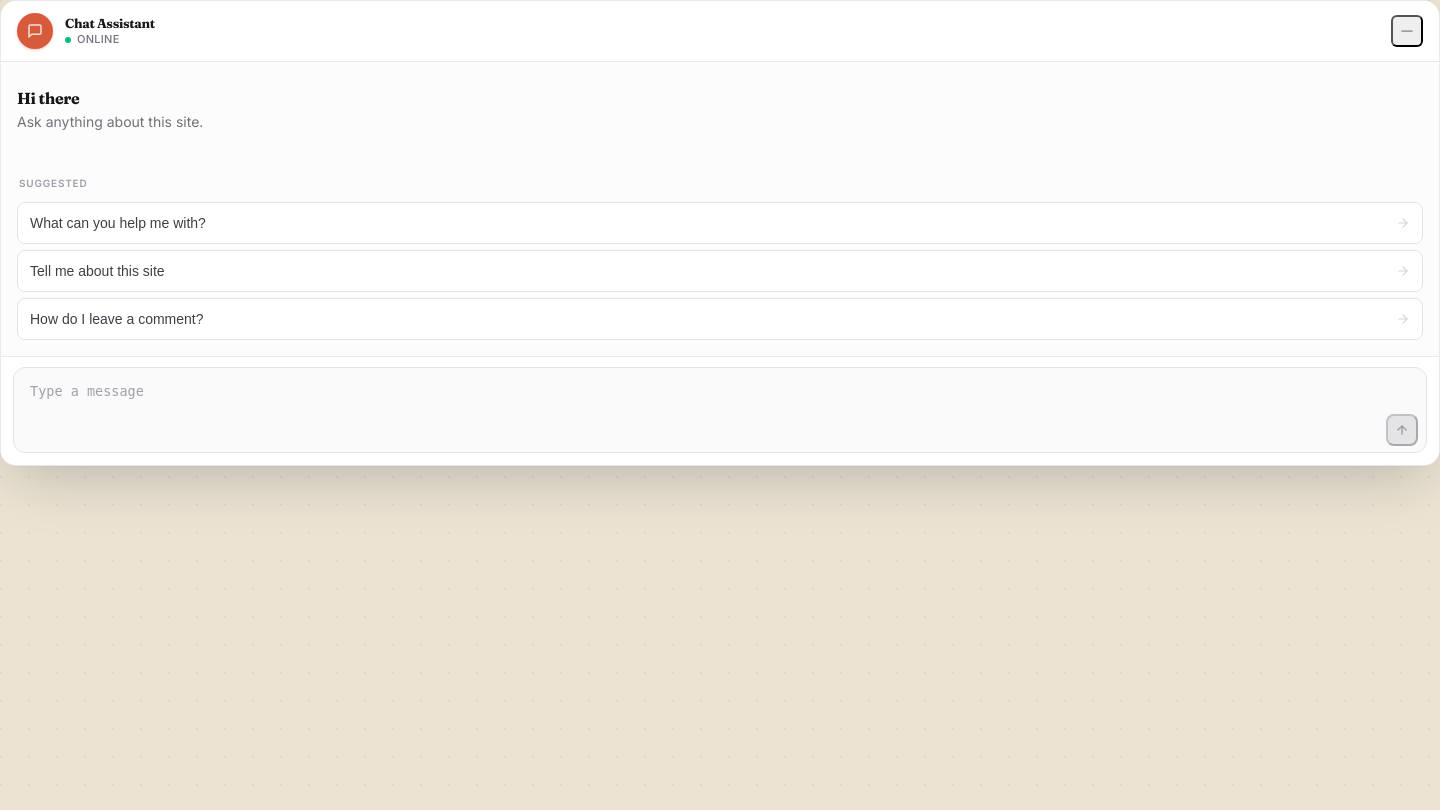
Scenario: ChatPanel › seeds and counts down the rate-limit timer from an error
Type "x" into the text box with placeholder "Type a message" at (700, 410), box [22,374,1378,446]
Wait 1000 ms
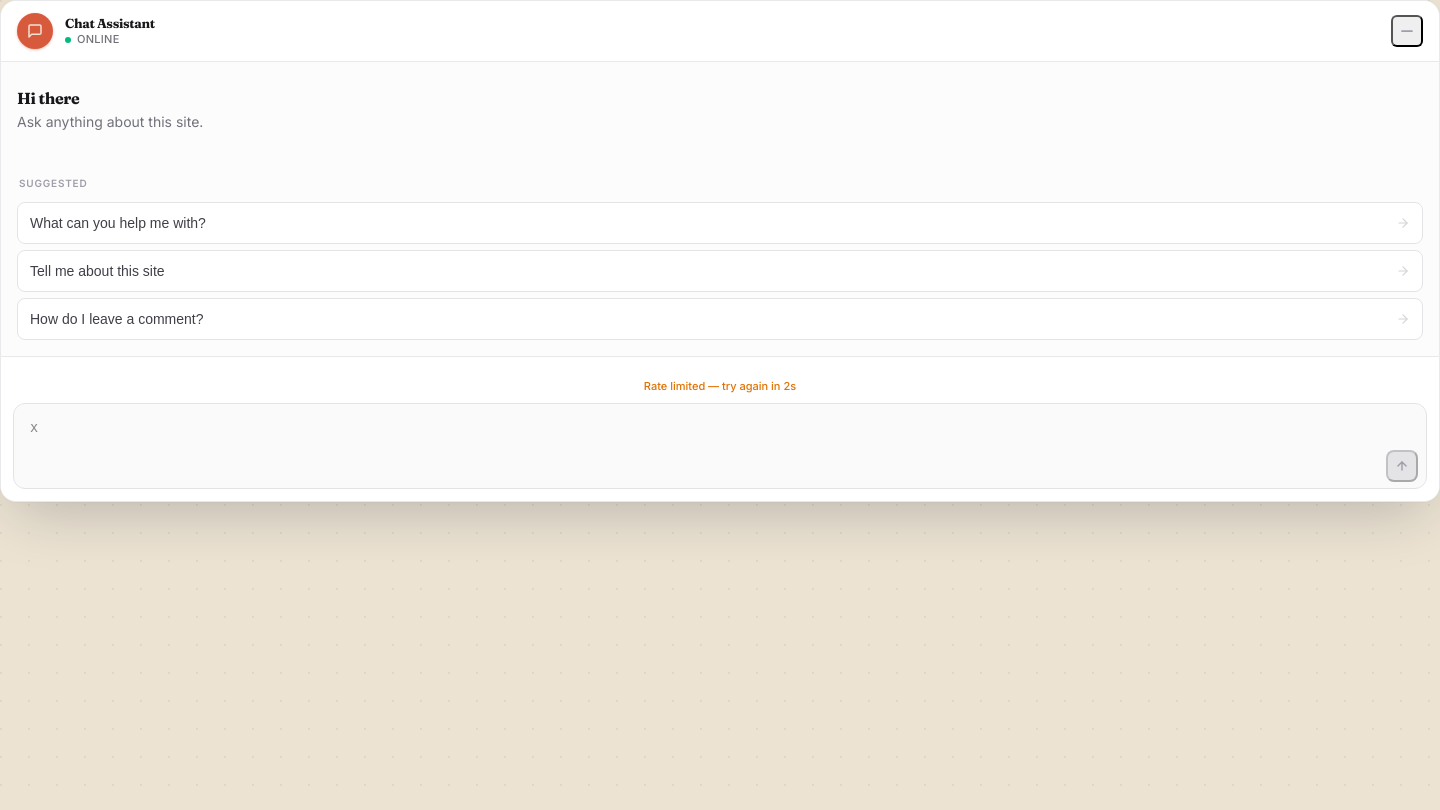
Result: the text "Rate limited — try again in 2s" is shown at [644,378,796,392]
